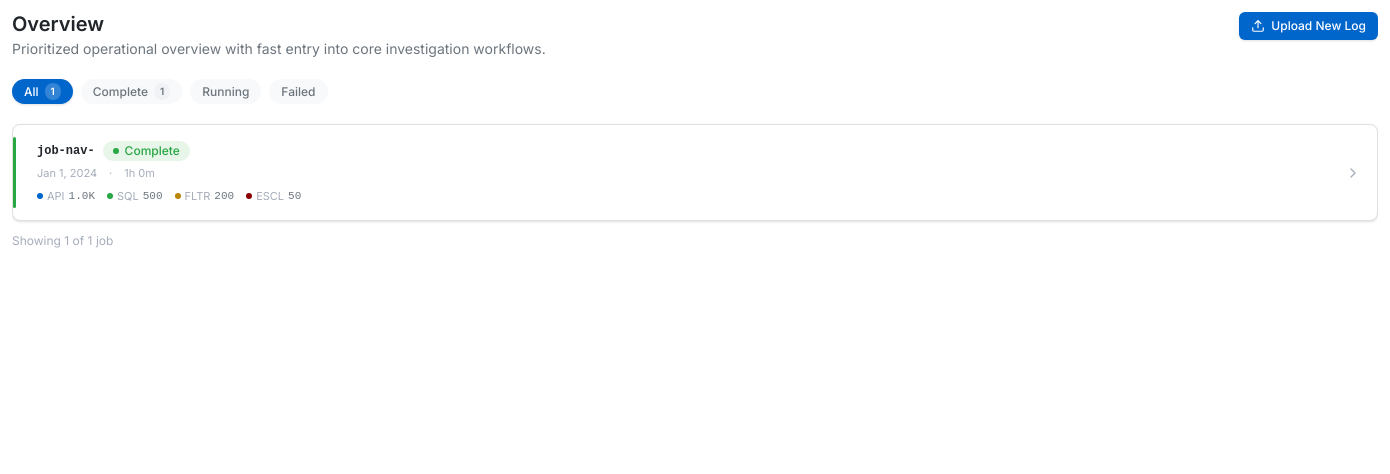
Test: AnalysisListPage › shows View Dashboard and View Explorer buttons when expanded
The image size is (1390, 474).
Click the button "job-nav": (66, 151) x1=13 y1=125 x2=1377 y2=220
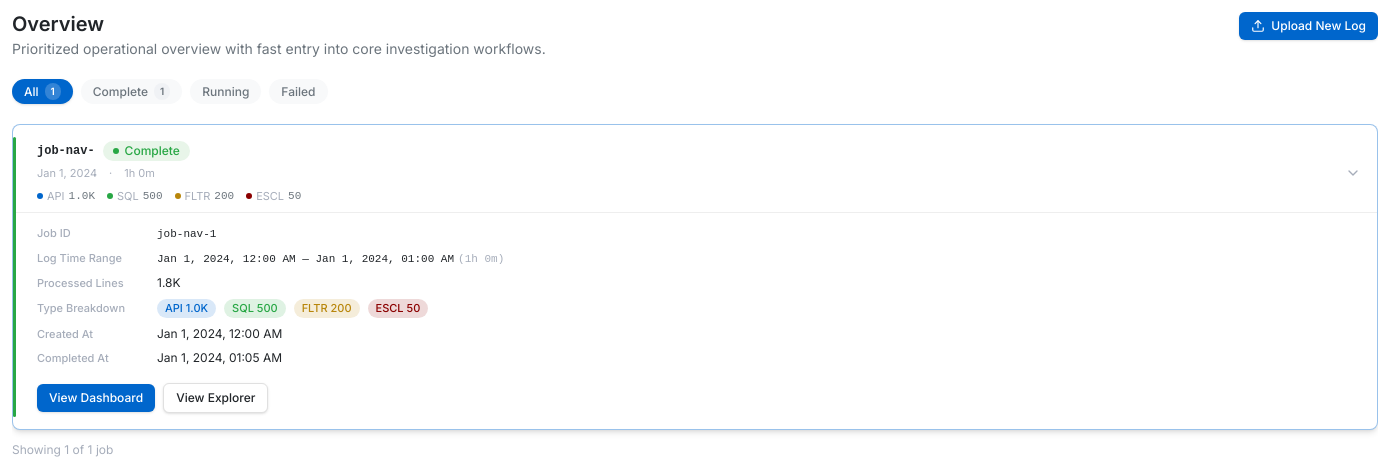
expect the button "View Dashboard" is shown: met, box x1=37 y1=384 x2=155 y2=412
expect the button "View Explorer" is shown: met, box x1=163 y1=383 x2=268 y2=413
